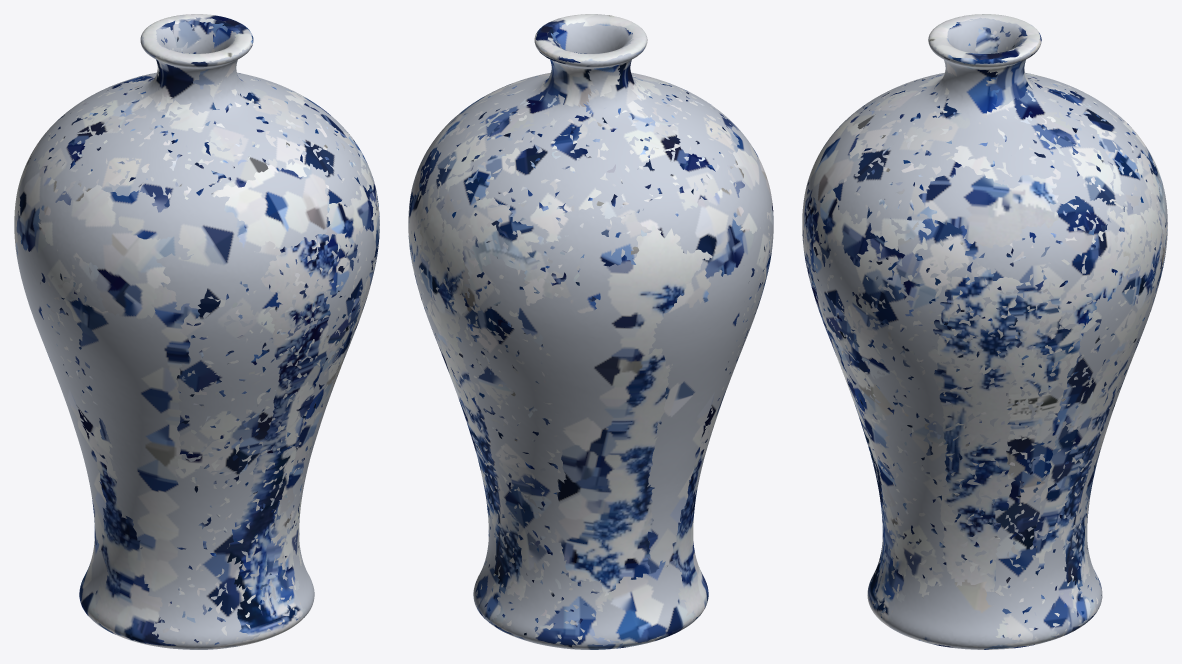
3 renders of one model, left to right at view 1: azimuth 30°, elevation 25°; view 2: azimuth 150°, elevation 25°; view 3: azimuth 270°, elevation 25°, orthographic.
Visible parts, largest first — view 1: world; view 2: world; view 3: world.
Boxes of the visible parts, box(x1,y1,x2,y2) form: world: box(14, 14, 379, 649); world: box(408, 14, 773, 649); world: box(802, 14, 1167, 649).
Size of the model in its own units: 0.5794 by 1 by 0.5794.
1 material, 1 textured.
